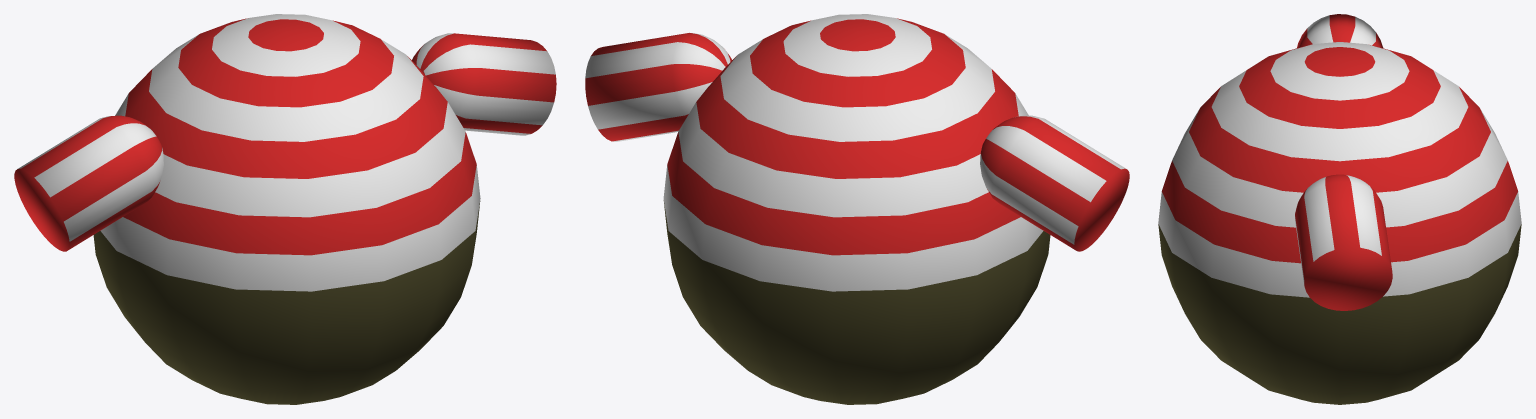
The model's file is bombmanRagdoll.dae.
The picture shows the model from 3 angles, left to right: view 1: azimuth 30°, elevation 25°; view 2: azimuth 150°, elevation 25°; view 3: azimuth 270°, elevation 25°; orthographic projection. The views are drawn at different scales.
Visible parts, largest first — view 1: Target_001; view 2: Target_001; view 3: Target_001.
Boxes of the visible parts, x1,y1,x2,y2 form: Target_001: [14, 14, 556, 404]; Target_001: [585, 14, 1129, 404]; Target_001: [1158, 14, 1521, 404].
Bounding box in the file's own units: 3.04 × 2 × 2.
